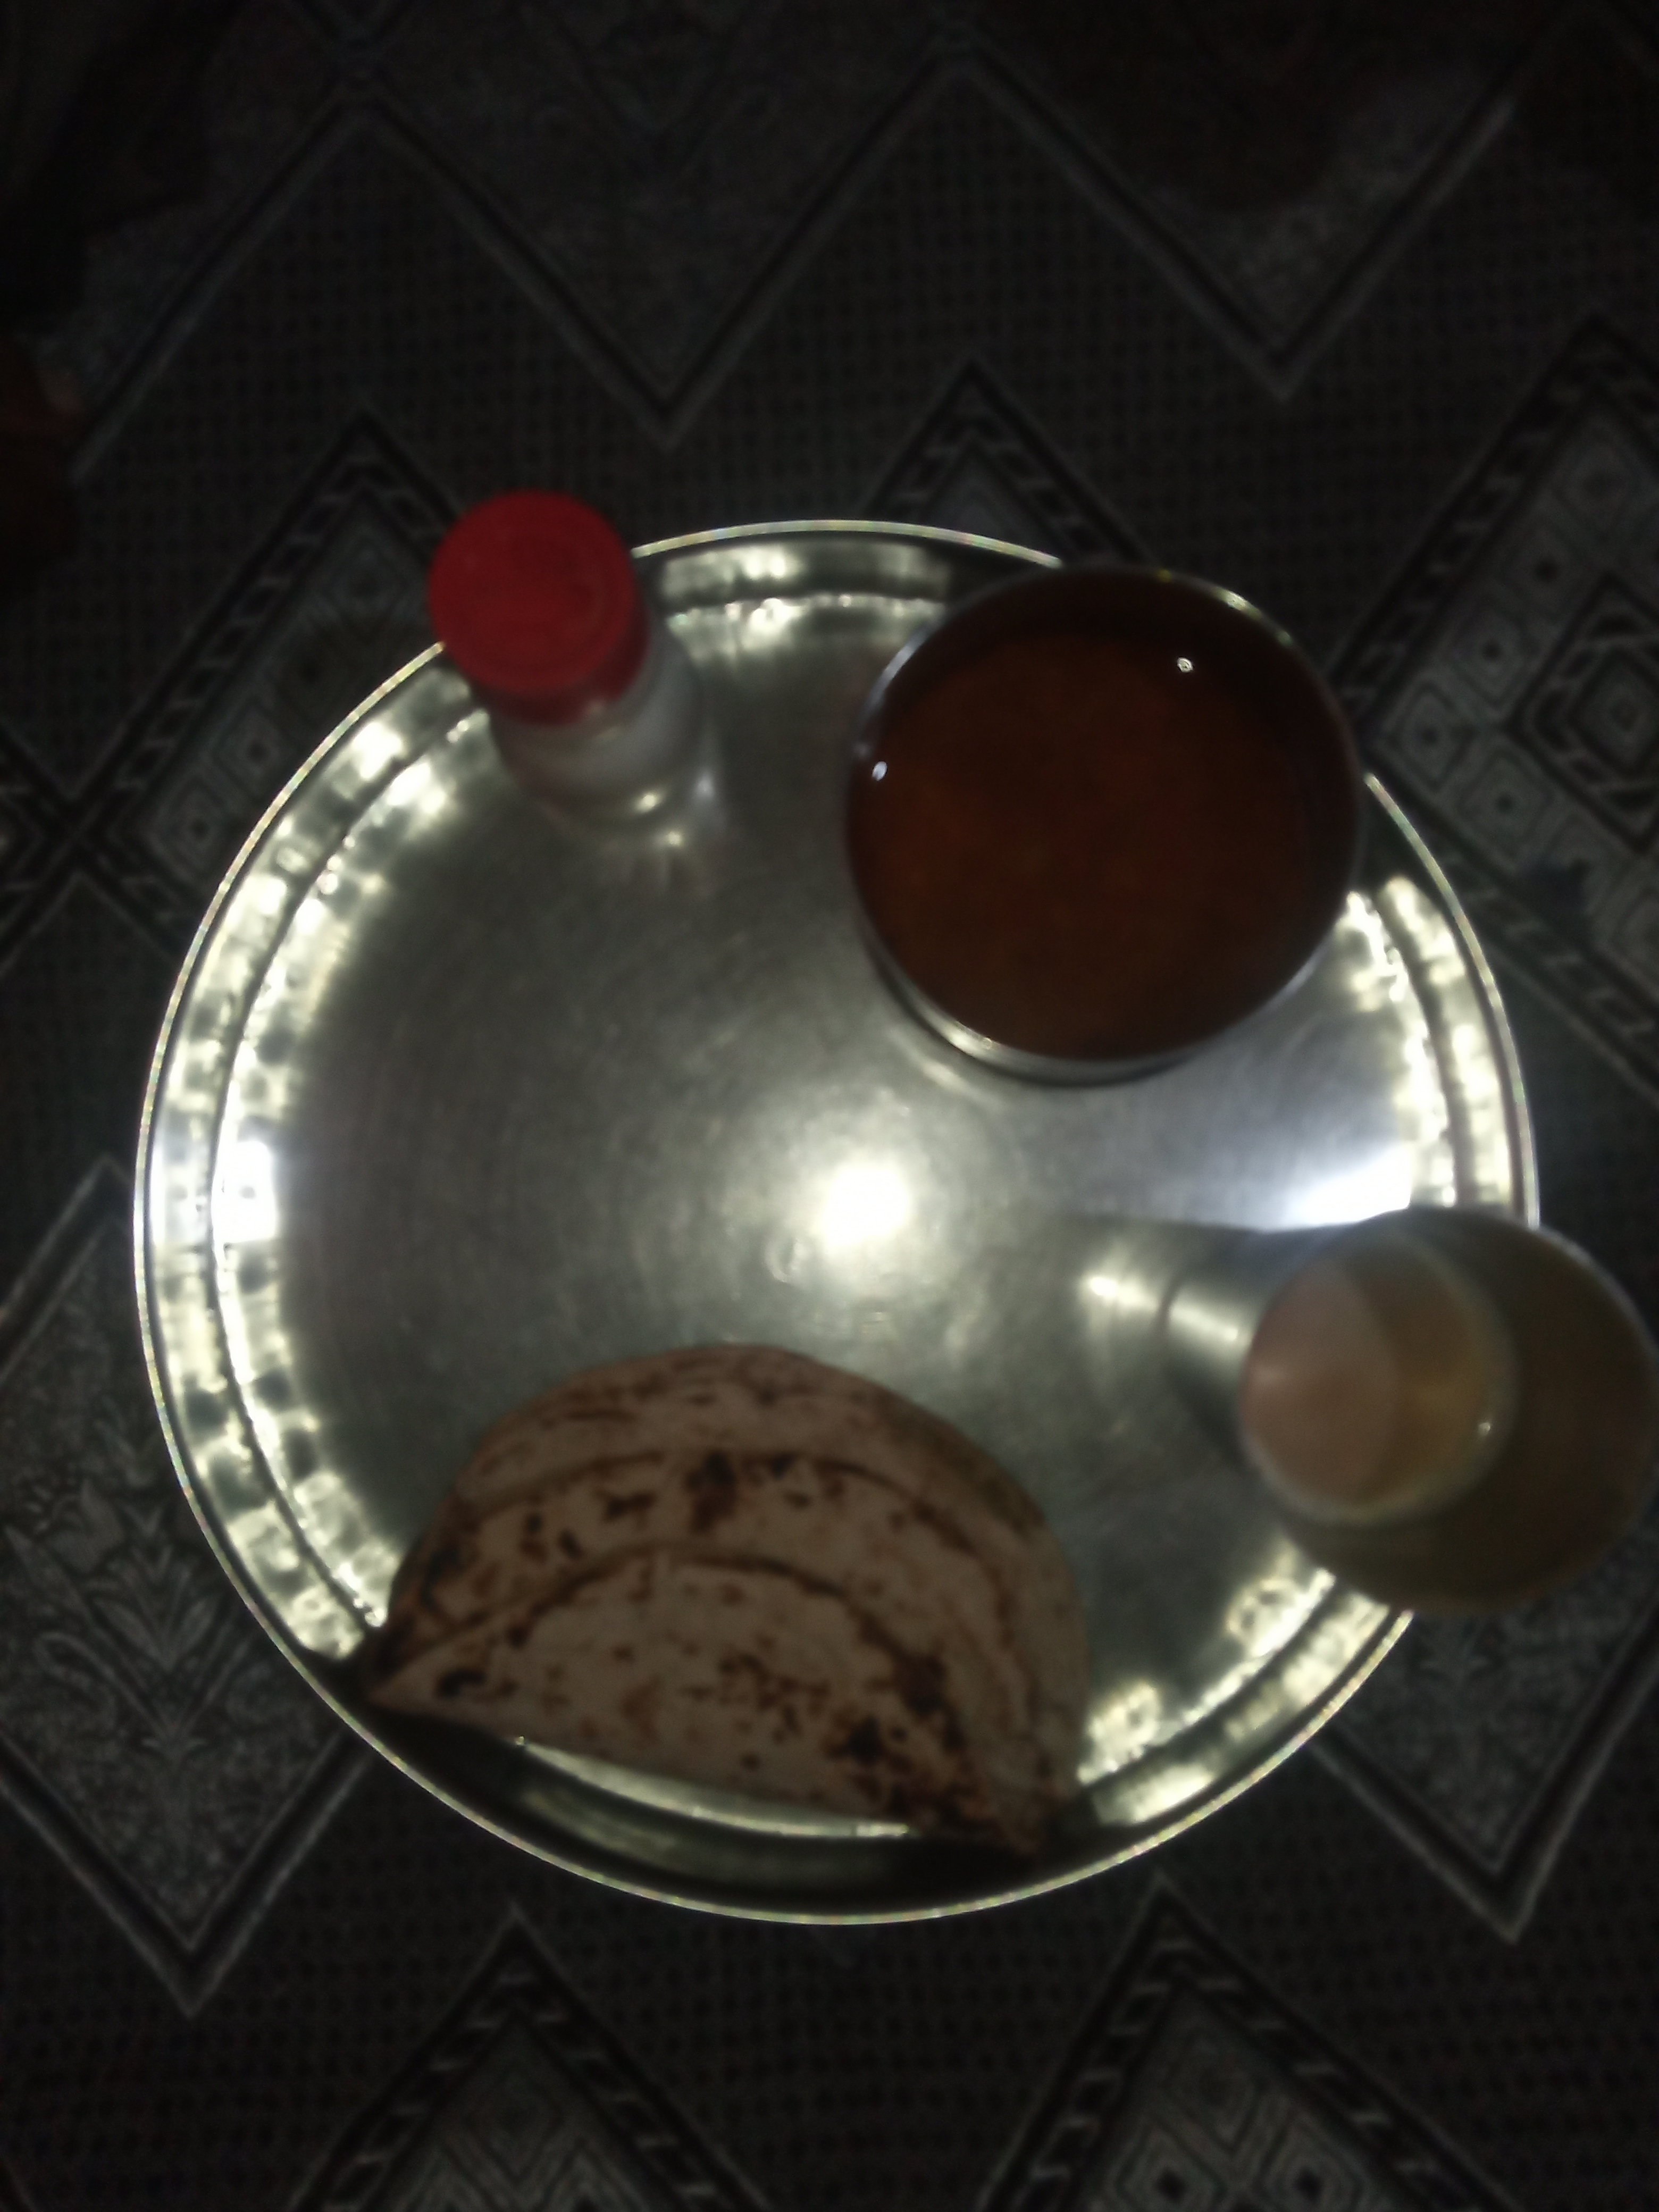food: (343, 477, 1659, 1867)
